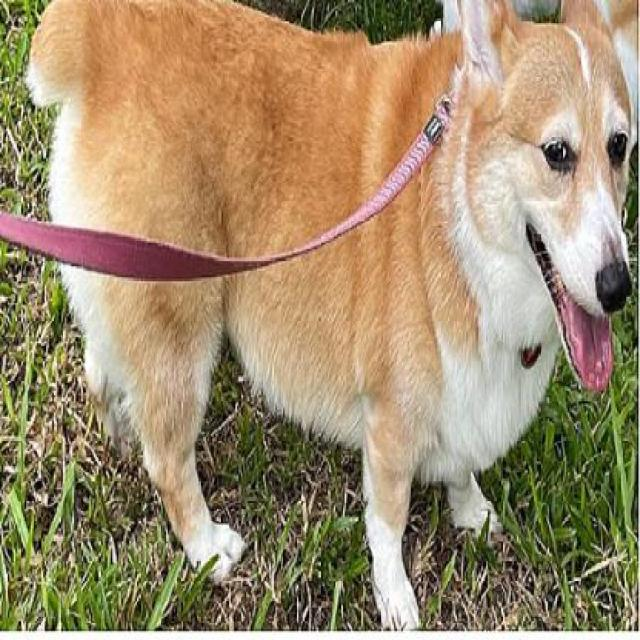Dog: (23, 0, 639, 623)
